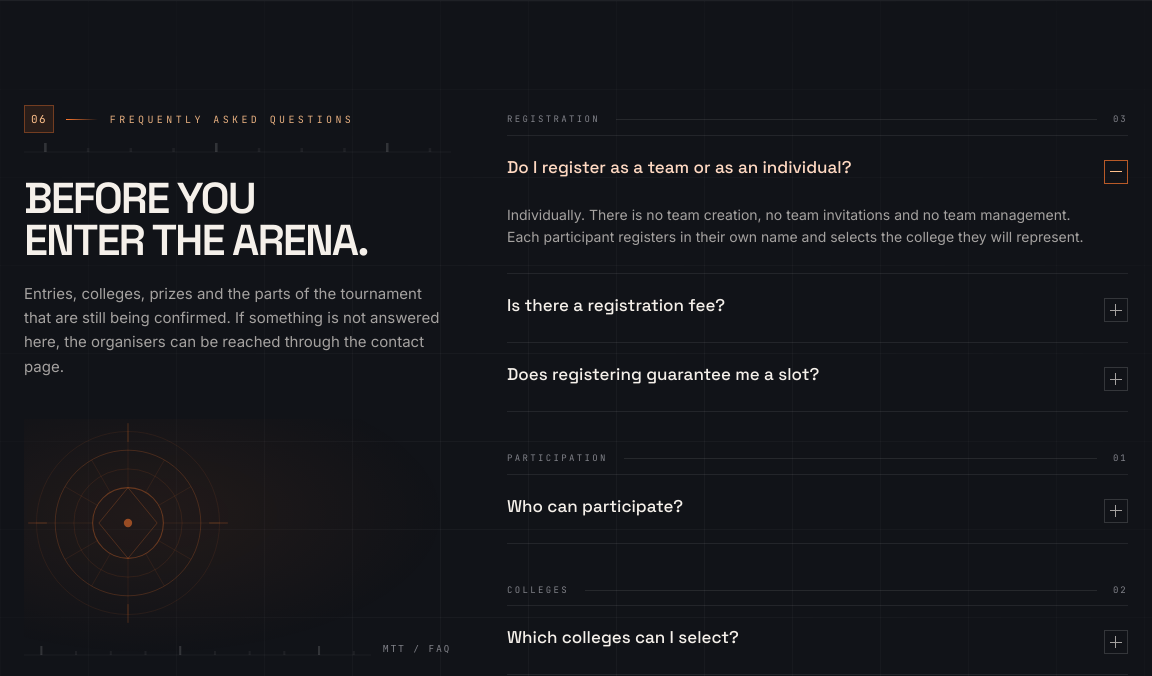
Test: TournamentFAQ — editorial accordion › exposes expanded state and panel association for assistive tech
Click the button "Do I register as a team or as an individual?": coordinates (818, 170) [507,136,1128,204]
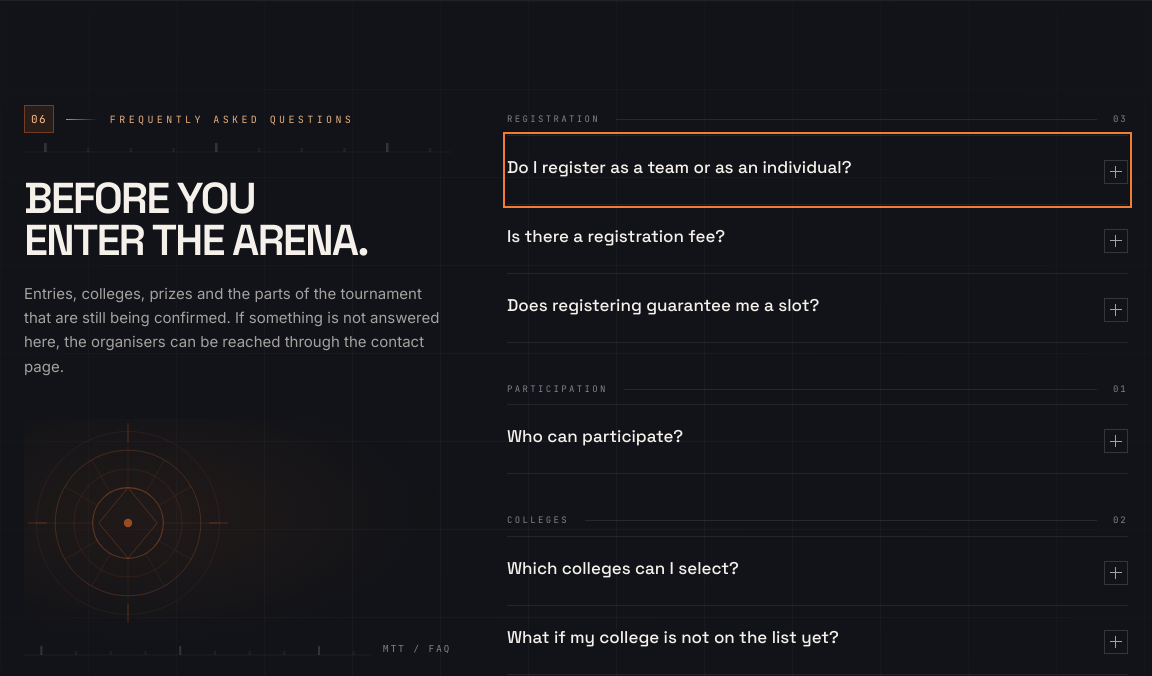
Expected: the button "Do I register as a team or as an individual?" is collapsed, [507,136,1128,204]
